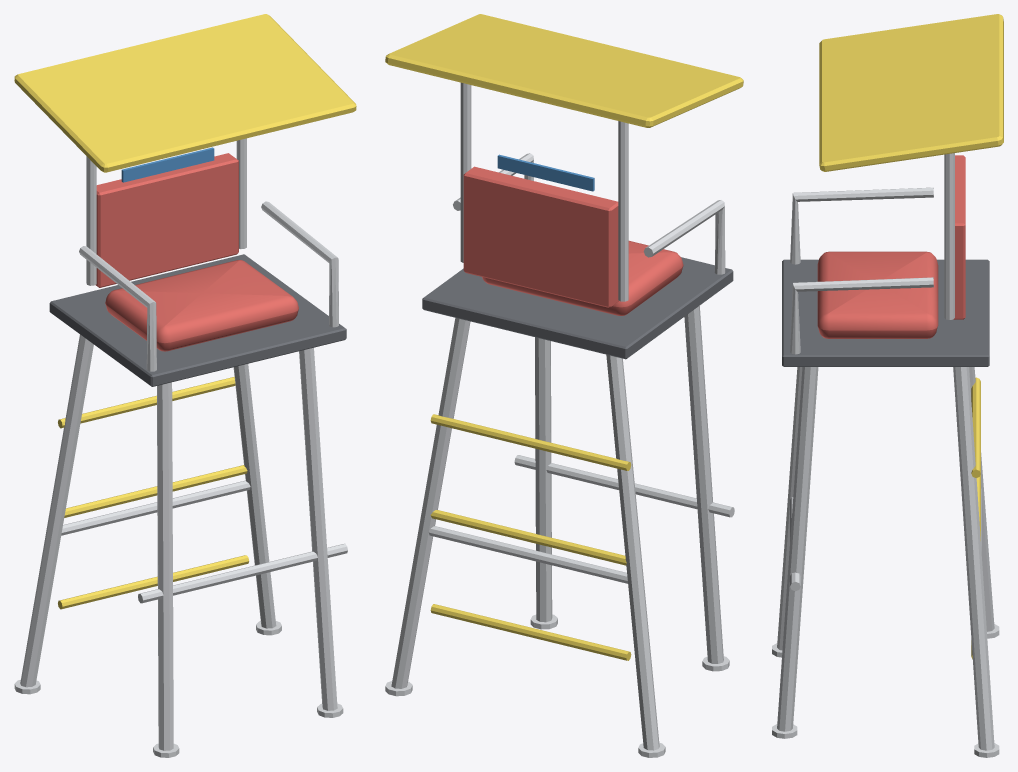
File: public-swimming-baths-and-poolside-lifeguard-high-chai-56aab62b__35251.glb
The picture shows the model from 3 angles, left to right: view 1: azimuth 30°, elevation 25°; view 2: azimuth 150°, elevation 25°; view 3: azimuth 270°, elevation 25°; orthographic projection. The views are drawn at different scales.
Visible parts, largest first — view 1: lifeguard-high-chair; view 2: lifeguard-high-chair; view 3: lifeguard-high-chair.
Boxes of the visible parts, x1=… form: lifeguard-high-chair: x1=14, y1=14, x2=356, y2=757; lifeguard-high-chair: x1=385, y1=14, x2=743, y2=757; lifeguard-high-chair: x1=772, y1=14, x2=1003, y2=757.
Bounding box in the file's own units: 1.16 × 2.56 × 0.8715.
